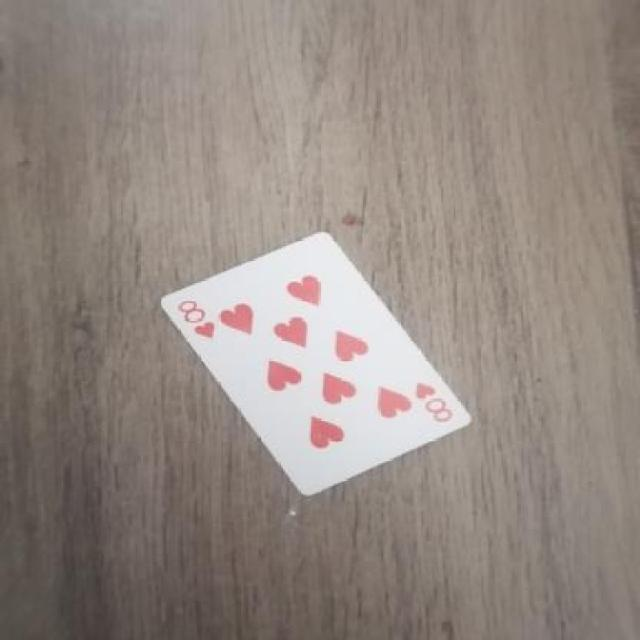8H: (162, 286, 218, 357), (413, 381, 470, 432)
